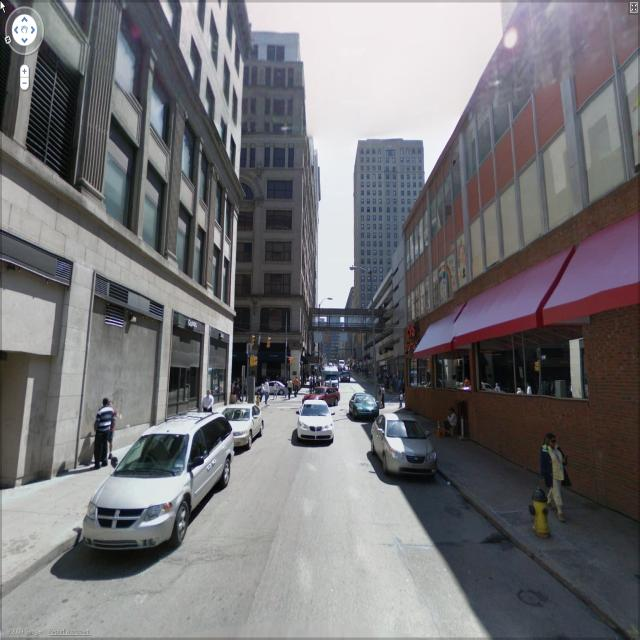b_1: (410, 1, 638, 418), (8, 1, 236, 391), (228, 42, 322, 400), (352, 134, 439, 308)
